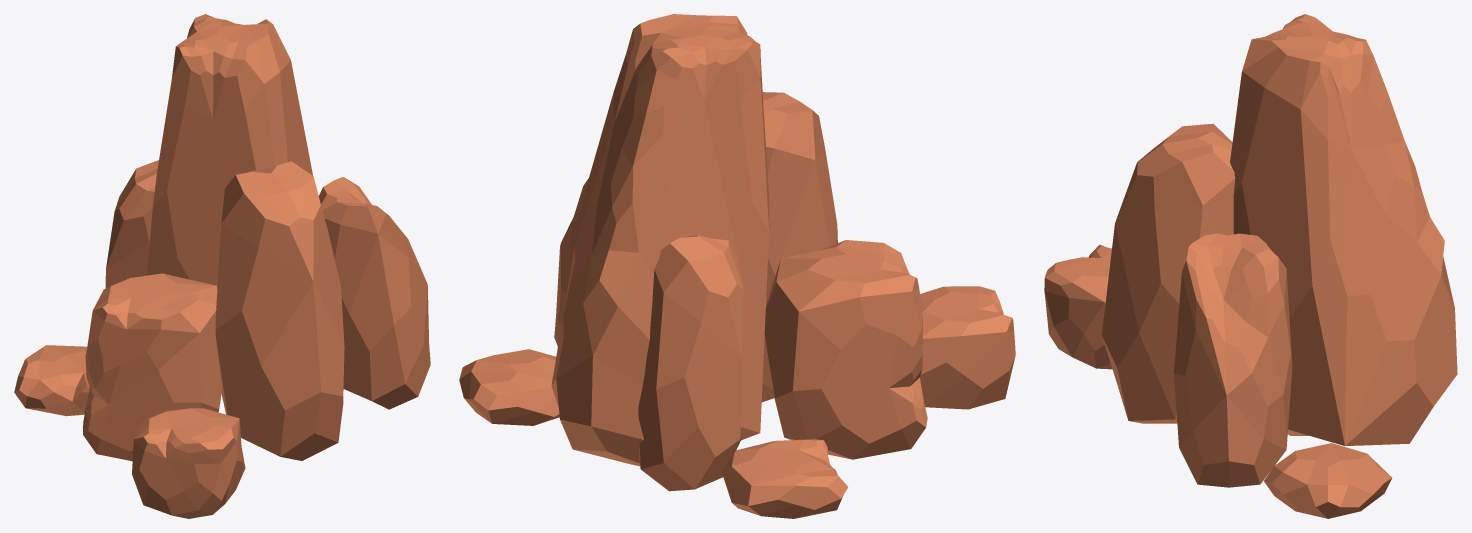
Rendered from rock07.glb.
The picture shows the model from 3 angles, left to right: view 1: azimuth 30°, elevation 25°; view 2: azimuth 150°, elevation 25°; view 3: azimuth 270°, elevation 25°; orthographic projection. The views are drawn at different scales.
Parts seen in each view (by area): view 1: rock_07; view 2: rock_07; view 3: rock_07.
Part boxes in pixels (x1,y1,x2,y2): rock_07: (14, 14, 430, 518); rock_07: (459, 14, 1015, 518); rock_07: (1044, 14, 1457, 518).
Size of the model in its own units: 3.46 by 3.14 by 3.04.
Materials: 1 (1 with a texture image).
